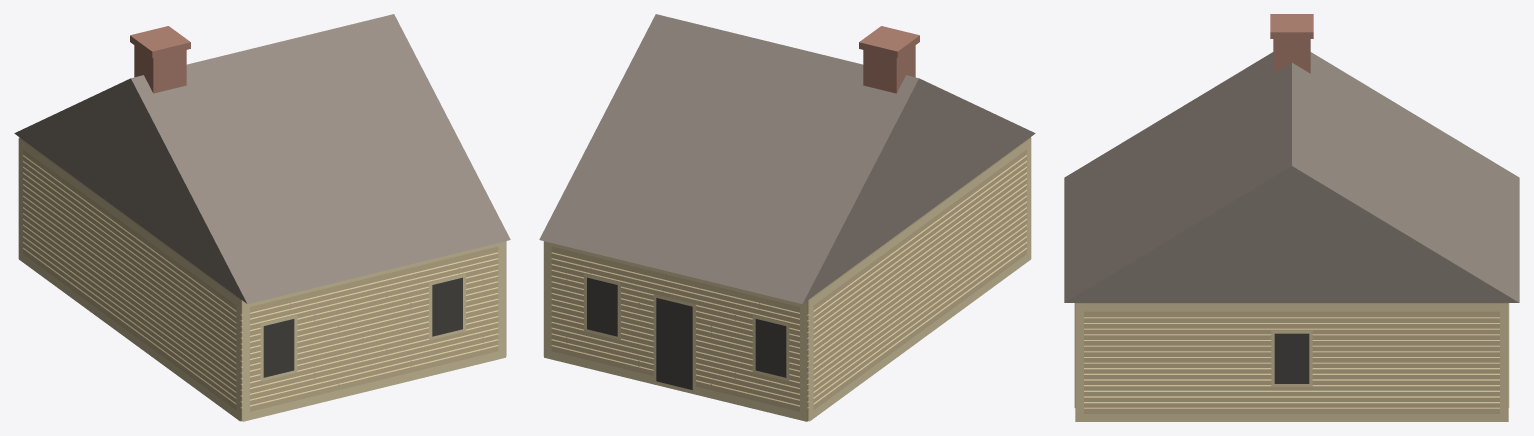
Rendered from recon_1835_blk_south_water_clark_d5_01__inferred_1835.glb.
The picture shows the model from 3 angles, left to right: view 1: azimuth 30°, elevation 25°; view 2: azimuth 150°, elevation 25°; view 3: azimuth 270°, elevation 25°; orthographic projection. The views are drawn at different scales.
Parts seen in each view (by area): view 1: recon_1835_blk_south_water_clark_d5_01__inferred_1835; view 2: recon_1835_blk_south_water_clark_d5_01__inferred_1835; view 3: recon_1835_blk_south_water_clark_d5_01__inferred_1835.
Boxes of the visible parts, x1,y1,x2,y2 form: recon_1835_blk_south_water_clark_d5_01__inferred_1835: [14, 14, 510, 421]; recon_1835_blk_south_water_clark_d5_01__inferred_1835: [539, 14, 1035, 421]; recon_1835_blk_south_water_clark_d5_01__inferred_1835: [1064, 14, 1519, 421].
Bounding box in the file's own units: 6.75 × 7.12 × 10.23.
